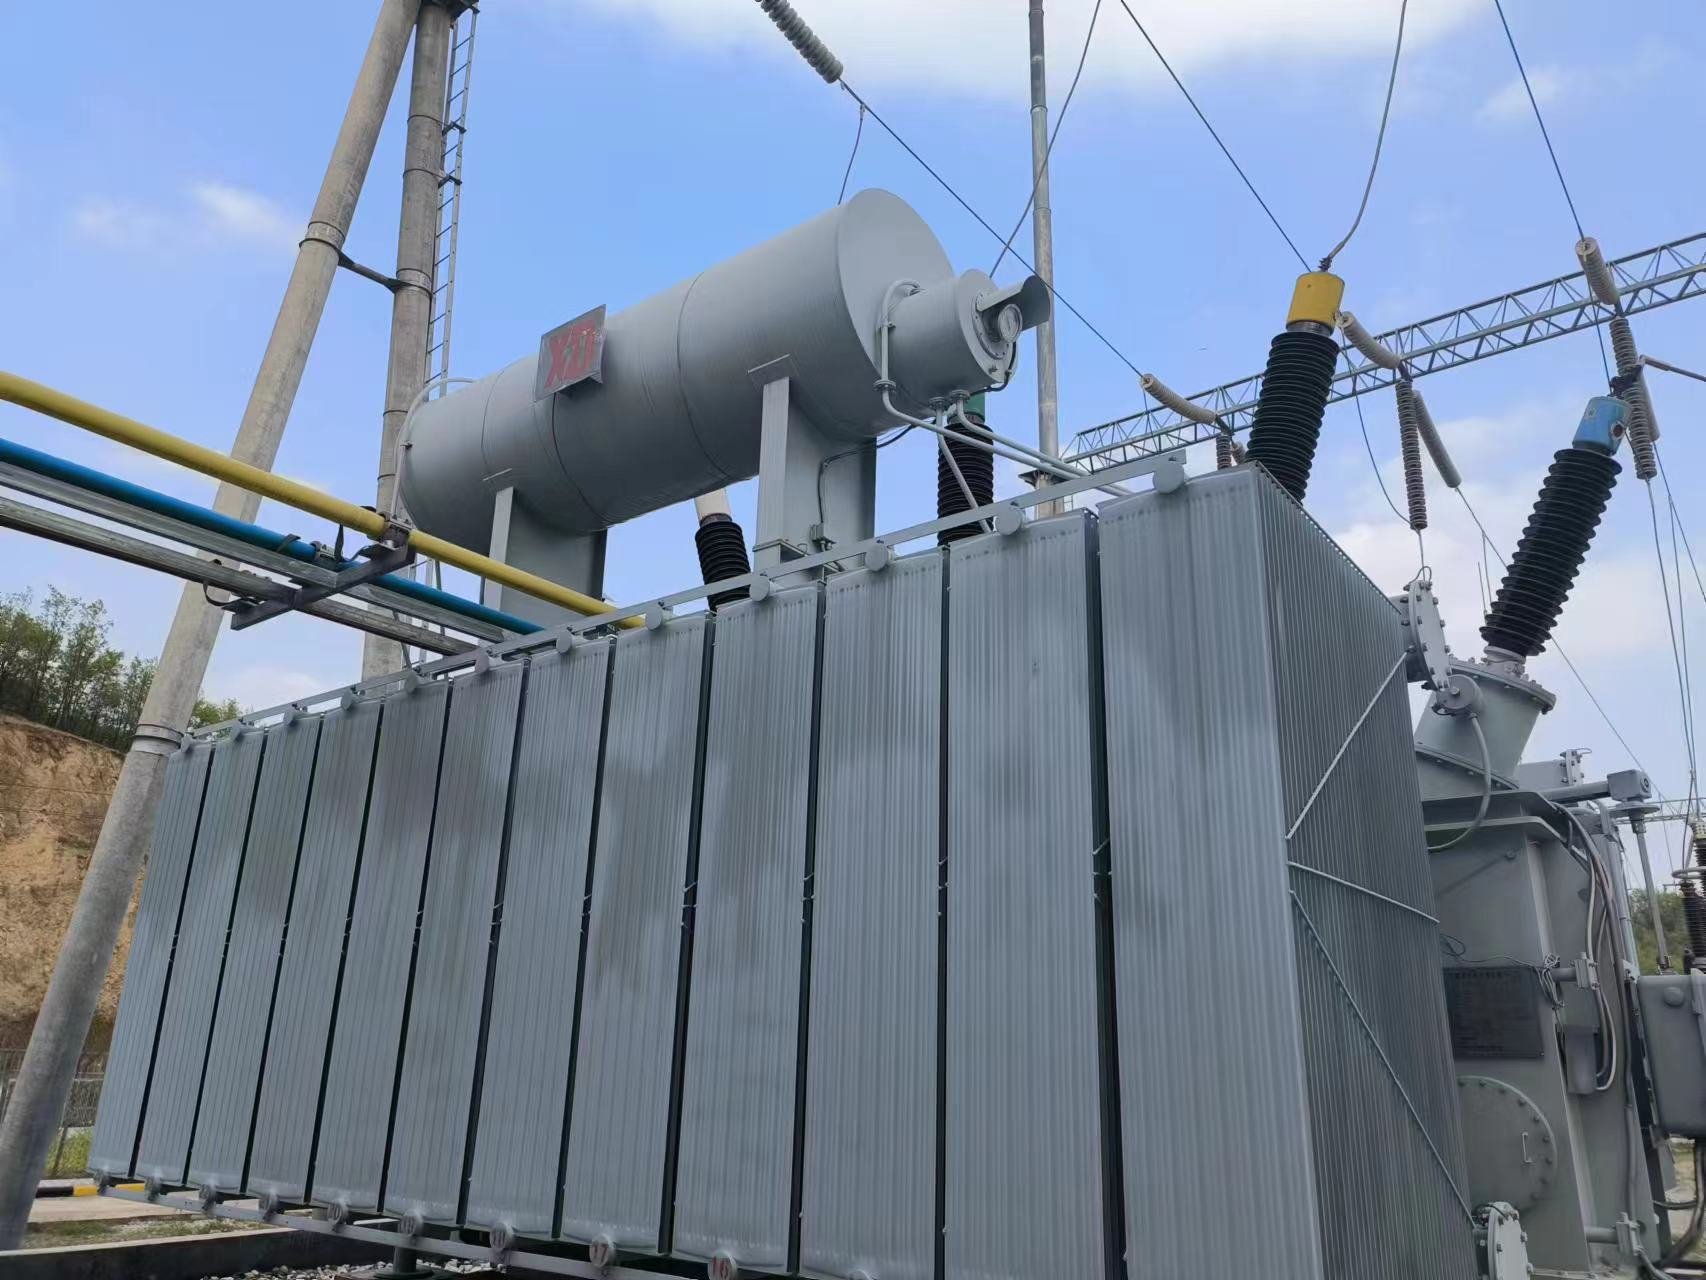Conservator: (389, 186, 1047, 645)
